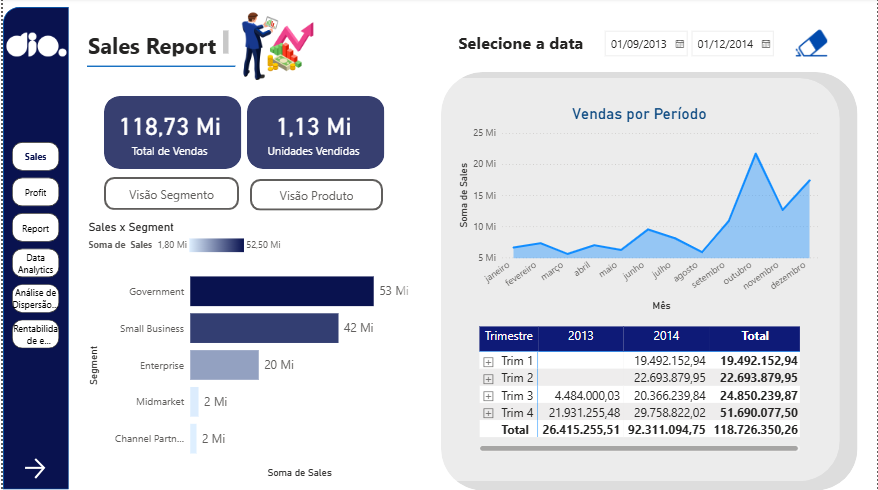

What the dashboard file says about the page in this screenshot:
{"tool":"powerbi","page":{"name":"Sales","canvas":[1280,720],"ordinal":0},"visuals":[{"type":"group","id":"g1","title":"Layout","box":[0,-0.5,511.4,720],"z":0},{"type":"shape","box":[0,13.4,96.4,706.2],"z":0,"group":"g1"},{"type":"slicer","fields":{"Values":["financials.Date"]},"box":[867.2,38.7,272.2,55],"z":0,"group":"g3"},{"type":"shape","box":[123.8,84.5,217.2,33],"z":0,"group":"g4"},{"type":"shape","box":[147.2,142.2,201.4,106.8],"z":0,"group":"g2"},{"type":"areaChart","title":"Vendas por Período","fields":{"Category":["financials.Date.Variation.Hierarquia de datas.Ano","financials.Date.Variation.Hierarquia de datas.Mês"],"Y":["Sum(financials. Sales)"]},"box":[661.6,156.1,539.7,306.2],"z":0,"group":"g6"},{"type":"clusteredBarChart","title":"Sales x Segment","fields":{"Category":["financials.Segment"],"Y":["Sum(financials. Sales)"]},"box":[120.4,323.9,479.3,383],"z":0,"group":"g5"},{"type":"image","title":"logo_dio","box":[0,35.7,98.2,63.2],"z":1000,"group":"g1"},{"type":"textbox","box":[120.4,43.1,215.2,48.5],"z":1000,"group":"g4"},{"type":"textbox","box":[661.6,44.7,199.6,45.6],"z":1000,"group":"g3"},{"type":"shape","box":[355.9,142.2,201.4,106.8],"z":1000,"group":"g2"},{"type":"actionButton","title":"Botão - Next","box":[25.9,669,48.8,39.6],"z":1000},{"type":"image","box":[322.6,-0.5,188.8,141.2],"z":2000,"group":"g1"},{"type":"actionButton","box":[1153.4,43.3,59.9,51.3],"z":2000,"group":"g3"},{"type":"group","id":"g2","title":"Cartões","box":[147.2,141.2,410.3,107],"z":2000},{"type":"card","fields":{"Values":["Sum(financials. Sales)"]},"box":[161.1,141.2,162.6,106.9],"z":2000,"group":"g2"},{"type":"actionButton","title":"B-Segmento","box":[147.8,261.6,197.5,48.4],"z":2000,"group":"g5"},{"type":"group","id":"g3","title":"Filtro por data","box":[661.6,38.7,551.5,55],"z":3000},{"type":"image","title":"clean","box":[1153.4,39,59.9,55.6],"z":3000,"group":"g3"},{"type":"card","fields":{"Values":["Sum(financials.Units Sold)"]},"box":[375.8,145.4,156.5,98.6],"z":3000,"group":"g2"},{"type":"actionButton","title":"B-Produto","box":[362.2,264.3,194.6,46.3],"z":3000,"group":"g5"},{"type":"shape","box":[640.7,108.5,609.5,612.5],"z":4000},{"type":"group","id":"g4","title":"Title report","box":[120.4,43.1,221.5,74.3],"z":5000},{"type":"group","id":"g5","title":"Grupo 1","box":[120.4,261.6,478.7,446],"z":6000},{"type":"shape","box":[584.3,117.4,640.7,590.2],"z":7000},{"type":"group","id":"g6","title":"Perspectiva temporal das vendas","box":[661.6,156.1,539.7,306.2],"z":8000},{"type":"pivotTable","fields":{"Columns":["financials.Date.Variation.Hierarquia de datas.Ano"],"Rows":["financials.Date.Variation.Hierarquia de datas.Trimestre","financials.Date.Variation.Hierarquia de datas.Mês"],"Values":["Sum(financials. Sales)"]},"box":[692.8,475.7,478.7,193.3],"z":9000},{"type":"pageNavigator","box":[13.4,211.1,69.9,306.2],"z":10000}]}

Visuals, with their boxes on the page's 1280x720 design canvas (x1, y1, x2, y2). These are canvas units, not pixel positions in the 878x490 screenshot, which may show the page scaled, cropped or inside an application window:
"Layout" group: (0, 0, 511, 720)
shape: (0, 13, 96, 720)
slicer - financials.Date: (867, 39, 1139, 94)
shape: (124, 84, 341, 118)
shape: (147, 142, 349, 249)
"Vendas por Período" areaChart: (662, 156, 1201, 462)
"Sales x Segment" clusteredBarChart: (120, 324, 600, 707)
"logo_dio" image: (0, 36, 98, 99)
textbox: (120, 43, 336, 92)
textbox: (662, 45, 861, 90)
shape: (356, 142, 557, 249)
"Botão - Next" actionButton: (26, 669, 75, 709)
image: (323, 0, 511, 141)
actionButton: (1153, 43, 1213, 95)
"Cartões" group: (147, 141, 558, 248)
card - Sum(financials. Sales): (161, 141, 324, 248)
"B-Segmento" actionButton: (148, 262, 345, 310)
"Filtro por data" group: (662, 39, 1213, 94)
"clean" image: (1153, 39, 1213, 95)
card - Sum(financials.Units Sold): (376, 145, 532, 244)
"B-Produto" actionButton: (362, 264, 557, 311)
shape: (641, 108, 1250, 721)
"Title report" group: (120, 43, 342, 117)
"Grupo 1" group: (120, 262, 599, 708)
shape: (584, 117, 1225, 708)
"Perspectiva temporal das vendas" group: (662, 156, 1201, 462)
pivotTable - financials.Date.Variation.Hierarquia de datas.Ano x financials.Date.Variation.Hierarquia de datas.Trimestre: (693, 476, 1172, 669)
pageNavigator: (13, 211, 83, 517)
